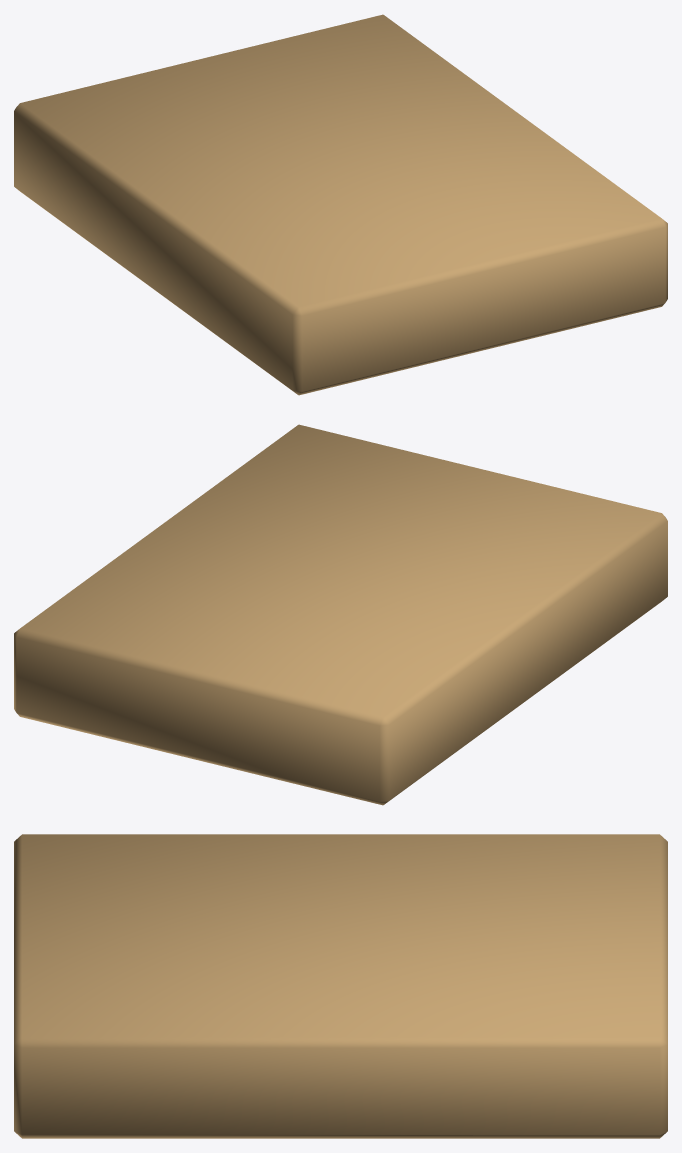
File: Ruins_PillarRoofSlab.fbx
The picture shows the model from 3 angles, top to bottom: view 1: azimuth 30°, elevation 25°; view 2: azimuth 150°, elevation 25°; view 3: azimuth 270°, elevation 25°; orthographic projection. The views are drawn at different scales.
Visible parts, largest first — view 1: Pair.003; view 2: Pair.003; view 3: Pair.003.
Boxes of the visible parts, x1,y1,x2,y2 form: Pair.003: (14,14,667,395); Pair.003: (14,424,667,805); Pair.003: (14,834,667,1138).
Bounding box in the file's own units: 863 × 194 × 1137.
